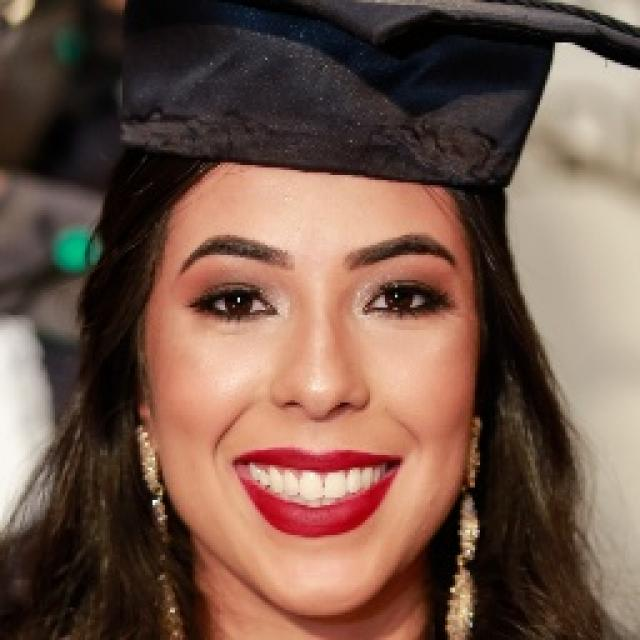eye: (196, 290, 275, 318), (363, 290, 448, 316)
nose: (270, 396, 370, 439)
